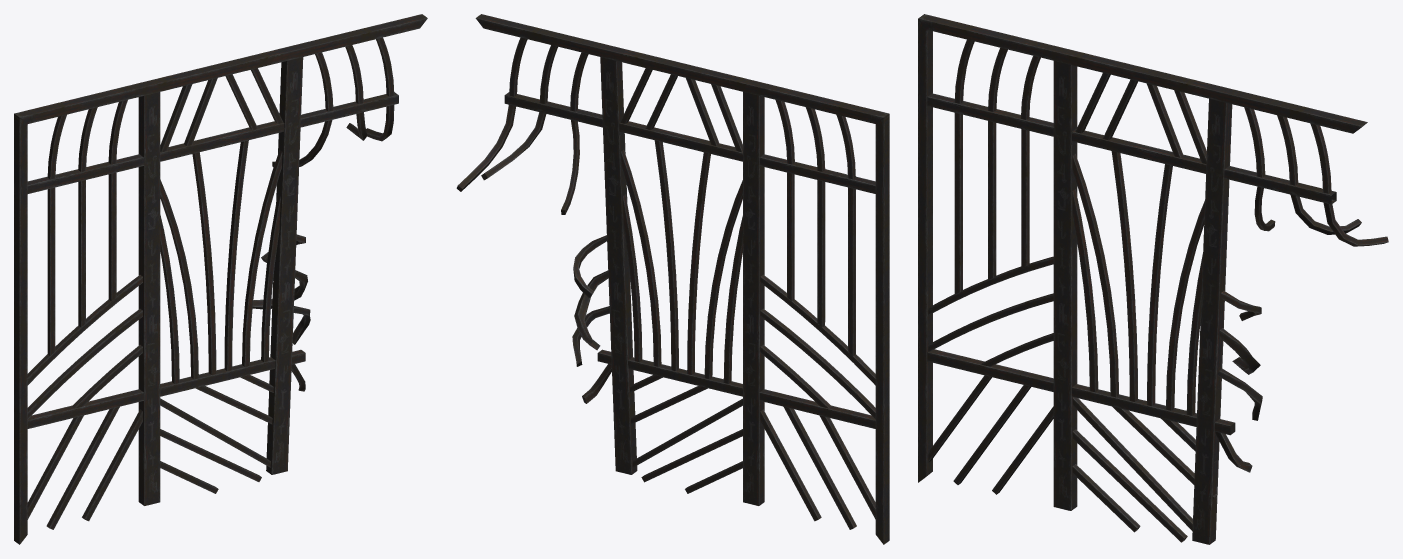
File: tth_metal_bars_01_broken2.dae
3 renders of one model, left to right at view 1: azimuth 30°, elevation 25°; view 2: azimuth 150°, elevation 25°; view 3: azimuth 330°, elevation 25°, orthographic. The views are drawn at different scales.
Parts seen in each view (by area): view 1: Normal; view 2: Normal; view 3: Normal.
Boxes of the visible parts, x1,y1,x2,y2 form: Normal: (14,14,427,544); Normal: (456,14,889,544); Normal: (918,14,1388,544).
Size of the model in its own units: 400 by 400 by 71.34.
